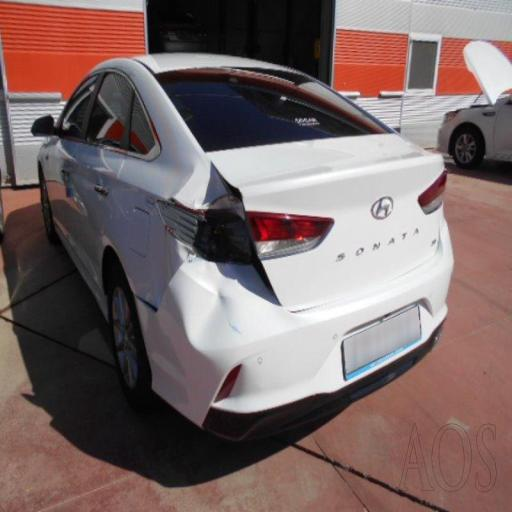broken: (159, 148, 287, 424)
